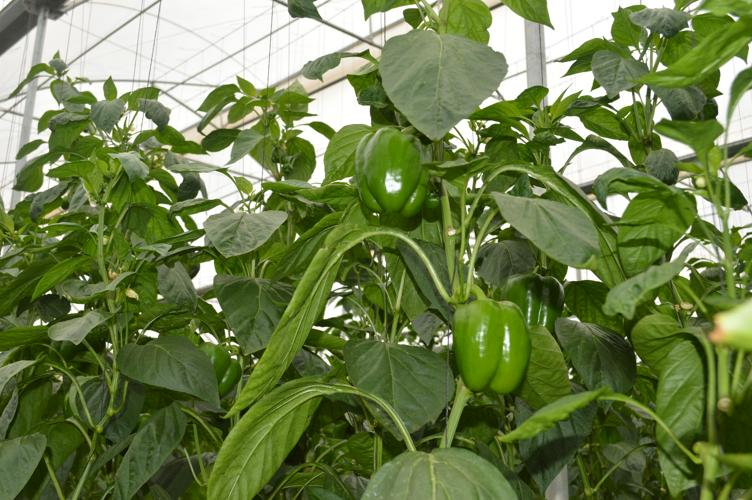BellPepper: (350, 121, 437, 229), (453, 289, 527, 399), (504, 258, 573, 334)
